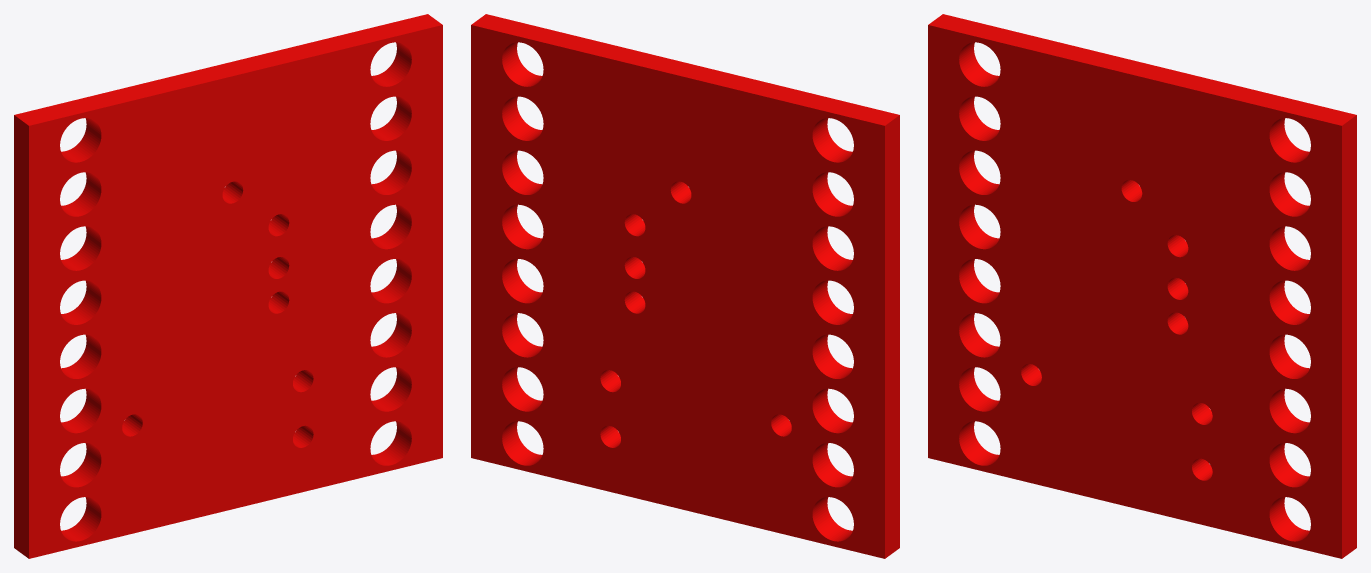
The model's file is pendulum_robot_rob144503dmodelstep418109_sczurt.dae.
3 views of the same model, side by side, from view 1: azimuth 30°, elevation 25°; view 2: azimuth 150°, elevation 25°; view 3: azimuth 330°, elevation 25° (orthographic).
Parts seen in each view (by area): view 1: node0; view 2: node0; view 3: node0.
Boxes of the visible parts, box(x1,y1,x2,y2) form: node0: box(14, 14, 442, 558); node0: box(471, 14, 899, 558); node0: box(928, 14, 1356, 558).
Size of the model in its own units: 0.0203 by 0.00127 by 0.0203.
